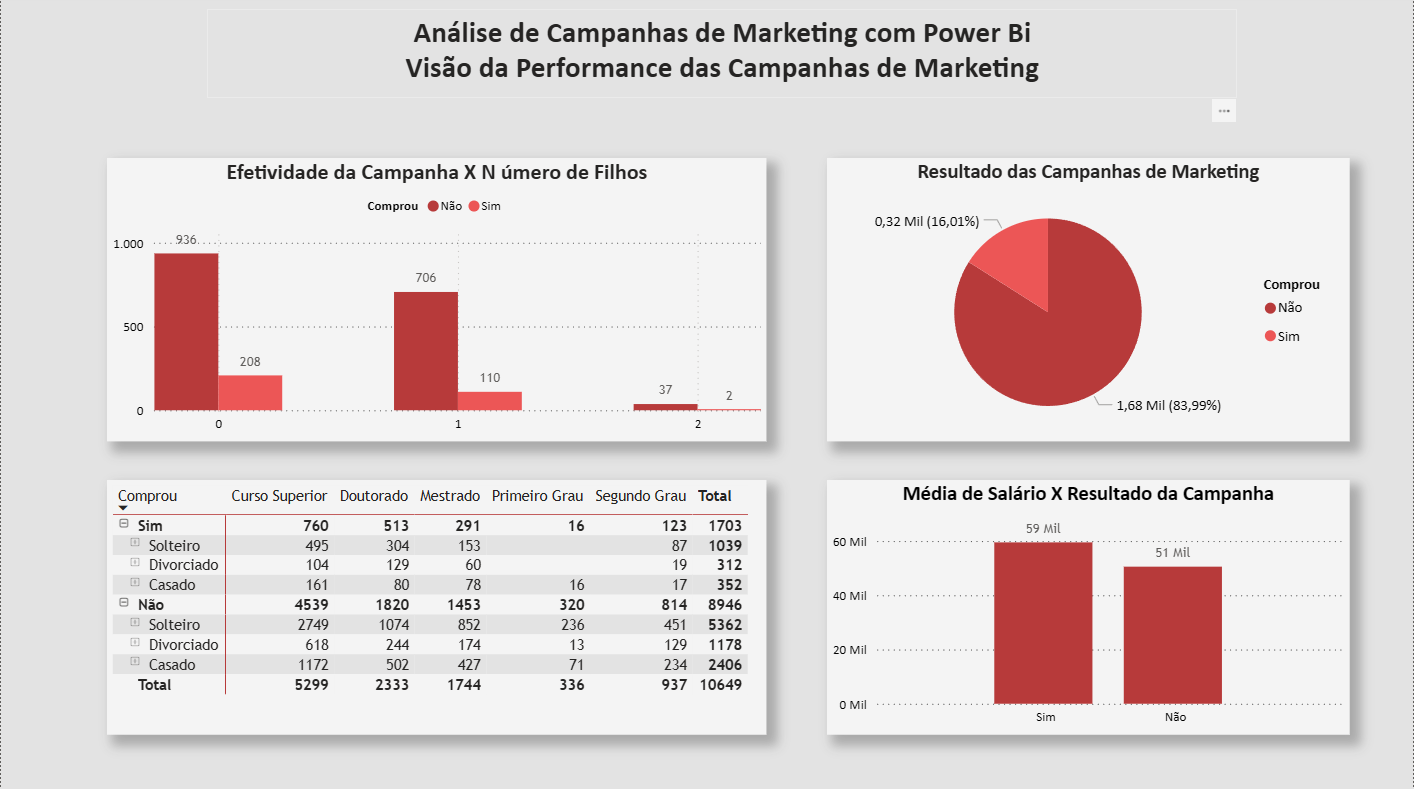

The dashboard page shown, as its layout file describes it:
{"tool":"powerbi","page":{"name":"Visão Campanhas","canvas":[1280,720],"ordinal":2},"visuals":[{"type":"pieChart","title":"Resultado das Campanhas de Marketing","fields":{"Category":["DadosMarketing.Comprou"],"Y":["CountNonNull(DadosMarketing.ID)"]},"box":[749,147.8,473.8,256.7],"z":0},{"type":"textbox","box":[186.6,12.9,934.6,80.3],"z":1000},{"type":"clusteredColumnChart","title":"Média de Salário X Resultado da Campanha","fields":{"Category":["DadosMarketing.Comprou"],"Y":["Avg(DadosMarketing.Salario Anual)"]},"box":[749,439.6,473.8,230.9],"z":2000},{"type":"pivotTable","fields":{"Rows":["DadosMarketing.Comprou","DadosMarketing.Estado Civil","DadosMarketing.Pais"],"Values":["Sum(DadosMarketing.Numero Visitas WebSite Mes)"],"Columns":["DadosMarketing.Escolaridade"]},"box":[96,439.6,598.4,230.9],"z":3000},{"type":"clusteredColumnChart","title":"Efetividade da Campanha X N úmero de Filhos","fields":{"Series":["DadosMarketing.Comprou"],"Category":["DadosMarketing.Filhos em Casa"],"Y":["CountNonNull(DadosMarketing.Filhos em Casa)"]},"box":[96,147.8,598.4,256.7],"z":4000}]}

Visuals, with their boxes in screenshot pixels (x1, y1, x2, y2), scaled from the page's 1280x720 canvas onto the 1414x789 screenshot:
"Resultado das Campanhas de Marketing" pieChart: [left=827, top=162, right=1351, bottom=443]
textbox: [left=206, top=14, right=1239, bottom=102]
"Média de Salário X Resultado da Campanha" clusteredColumnChart: [left=827, top=482, right=1351, bottom=735]
pivotTable - DadosMarketing.Comprou x DadosMarketing.Estado Civil: [left=106, top=482, right=767, bottom=735]
"Efetividade da Campanha X N úmero de Filhos" clusteredColumnChart: [left=106, top=162, right=767, bottom=443]
